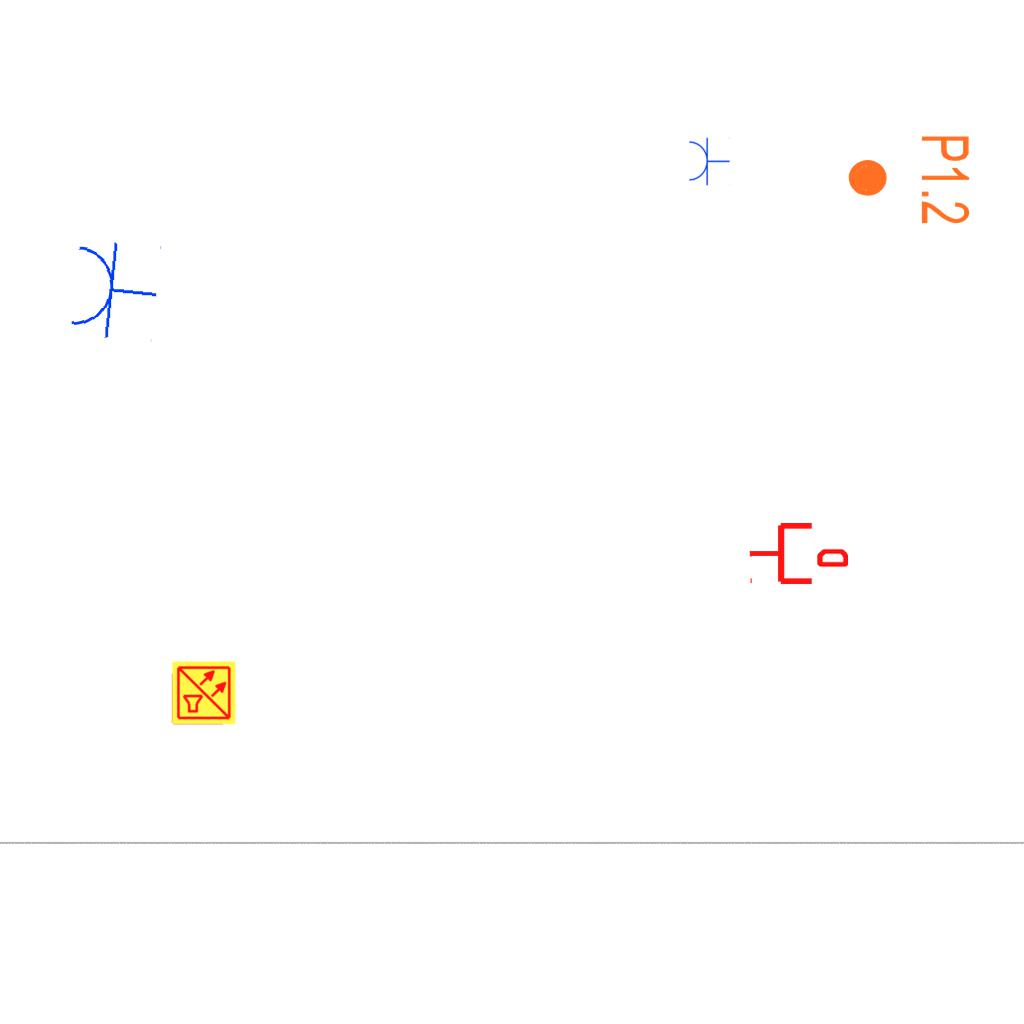Datenanschluss_einfach: (748, 519, 848, 588)
Downlight_LED_Einbauleuchten_Flur: (845, 133, 973, 226)
OKW_Multisensormelder_(Kombination_optischer_Rauch-Kahlenmonoxid_Waerme-Melder): (171, 660, 237, 726)
Schukosteckdose_einfach: (65, 235, 163, 344), (687, 136, 730, 186)
